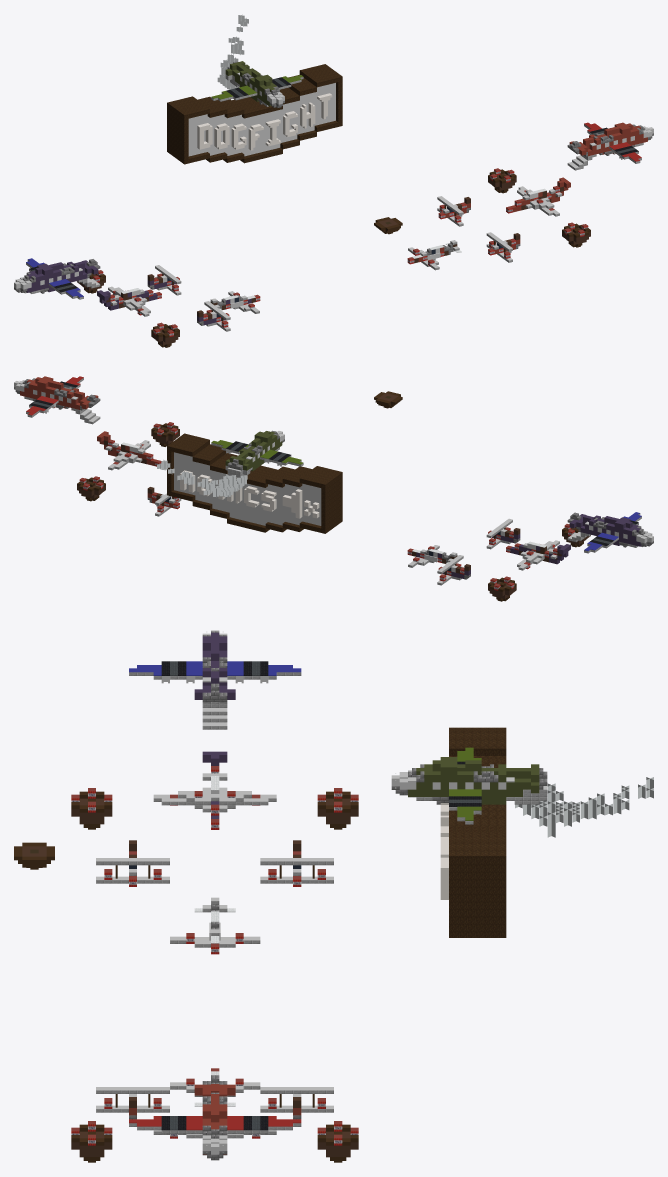
The model's file is minecraft.obj.
3 renders of one model, top to bottom at view 1: azimuth 30°, elevation 25°; view 2: azimuth 150°, elevation 25°; view 3: azimuth 270°, elevation 25°, orthographic. The views are drawn at different scales.
Bounding box in the file's own units: 149 × 36.5 × 77.98.
